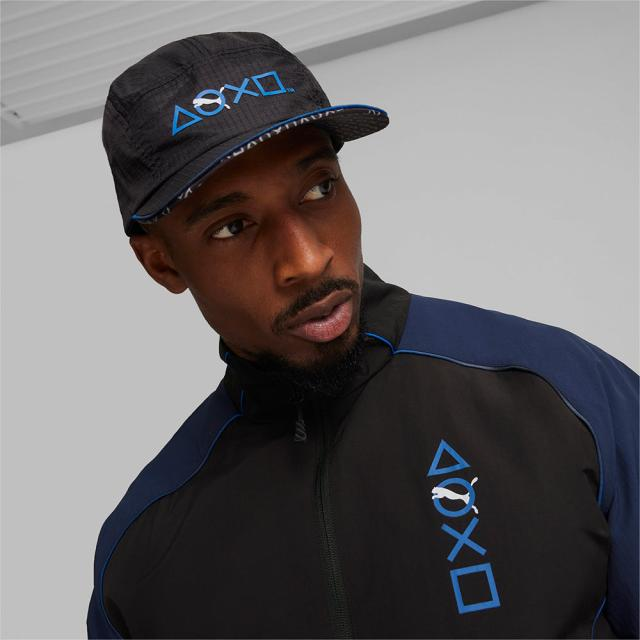Nonhelmet: (98, 28, 390, 376)
